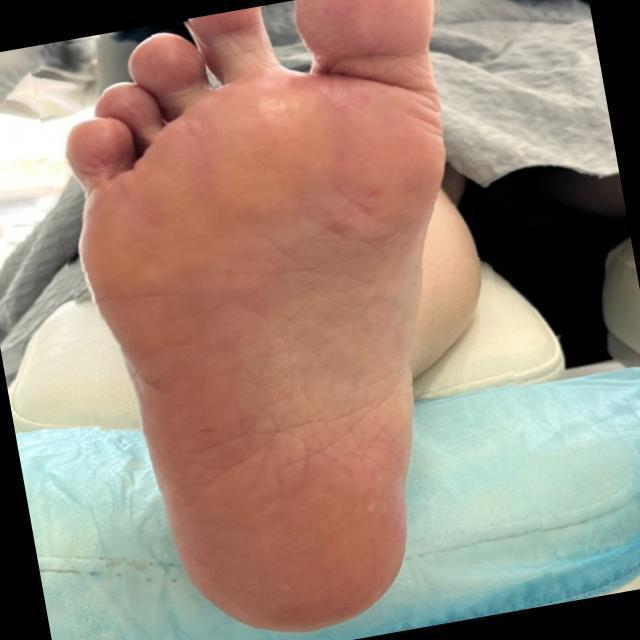No_Shoes: (68, 16, 461, 626)
